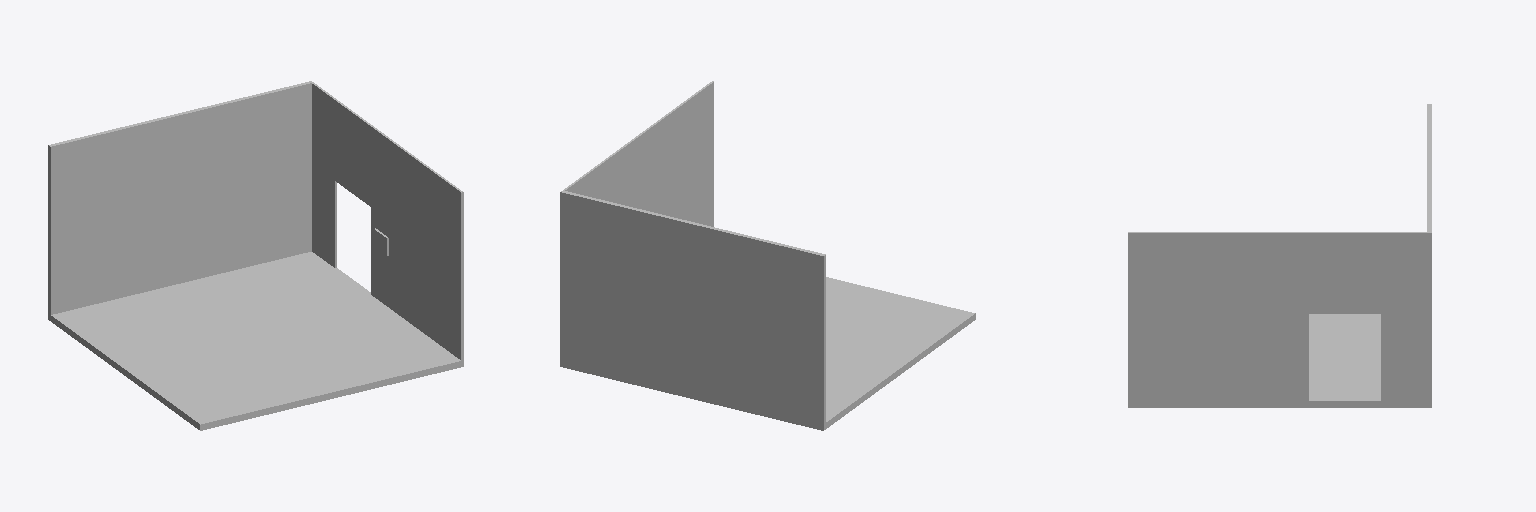
Rendered from 4x2 third-2.obj.
The picture shows the model from 3 angles: view 1: azimuth 30°, elevation 25°; view 2: azimuth 150°, elevation 25°; view 3: azimuth 270°, elevation 25°; orthographic projection.
Visible parts, largest first — view 1: 4x2 third-2; view 2: 4x2 third-2; view 3: 4x2 third-2.
Boxes of the visible parts, box(x1,y1,x2,y2) form: 4x2 third-2: box(48, 81, 463, 430); 4x2 third-2: box(560, 81, 975, 430); 4x2 third-2: box(1128, 104, 1431, 407).
Size of the model in its own units: 126 by 80 by 126.